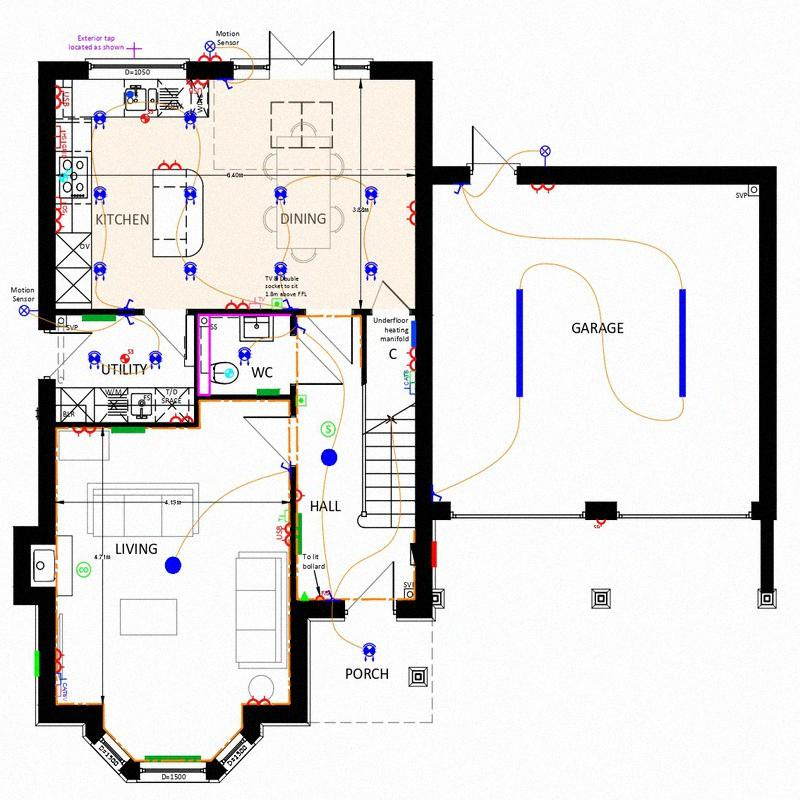BT Entry Point: (300, 592, 309, 600)
Cat 6 Data Socket: (403, 372, 415, 395), (56, 673, 68, 696)
Ceiling Mounted Continuous Extract FanWith Boost Mode Activated By Light Switch: (224, 369, 234, 377)
Ceiling Mounted Continuous Extract FanWith Local Boost Switch: (120, 349, 134, 363), (140, 109, 153, 123)
Co-Ax TV Socket: (55, 685, 68, 702), (249, 297, 266, 309)
Consumer Unit: (410, 543, 415, 565)
Double Socket: (246, 695, 272, 705), (531, 184, 555, 194), (158, 160, 182, 170), (72, 427, 96, 437), (55, 211, 65, 234), (406, 348, 416, 370), (406, 201, 415, 225), (56, 649, 65, 673), (198, 52, 221, 61), (170, 413, 193, 422), (225, 300, 248, 309)
Electric Meter Box: (431, 541, 437, 568)
External Wall Light: (18, 305, 38, 317), (540, 145, 551, 166), (205, 41, 216, 58)
Fused spur: (316, 590, 329, 600)
Gas Meter Box: (35, 651, 39, 678)
Grid Switch: (56, 136, 67, 158)
Hob Switch: (55, 126, 66, 139)
Light Switch: (222, 79, 234, 90), (125, 315, 135, 326), (454, 184, 464, 194), (124, 299, 134, 309), (283, 298, 293, 308), (433, 491, 442, 501), (279, 463, 289, 472), (325, 590, 334, 600), (298, 324, 306, 334)
Low Energy Downlighter: (93, 110, 107, 130), (93, 186, 107, 205), (184, 186, 197, 205), (94, 262, 107, 281), (184, 262, 197, 281), (274, 186, 287, 205), (365, 186, 378, 205), (363, 643, 376, 662), (365, 262, 378, 280), (88, 351, 101, 369), (149, 351, 162, 369), (238, 347, 251, 365), (274, 262, 287, 279), (184, 111, 196, 129)
Low Energy Pendant Light: (165, 556, 181, 574), (321, 449, 337, 466)
Mains Wired Smoke Detector: (321, 422, 336, 437)
Outside Socket: (594, 519, 606, 529)
Outside Tap: (127, 42, 142, 58)
Oven Switch: (56, 198, 67, 212)
Programmable Room Thermostat: (296, 395, 306, 406), (272, 299, 282, 309)
Radiator: (145, 755, 201, 761), (111, 427, 145, 434), (297, 513, 302, 555), (82, 315, 116, 321), (257, 389, 280, 394)
Recirculating Extractor Fan: (59, 167, 72, 182)
Single Socket: (296, 489, 305, 502)
Telephone Socket: (277, 510, 290, 522), (402, 372, 415, 383)
Twin LED Strip Light: (679, 289, 686, 398), (517, 289, 523, 397)
USB Double Socket: (56, 85, 70, 110), (275, 523, 290, 546), (187, 80, 209, 94)
Underfloor Heating Manifold: (411, 321, 415, 347)
Water Entry Position: (126, 91, 134, 98)
